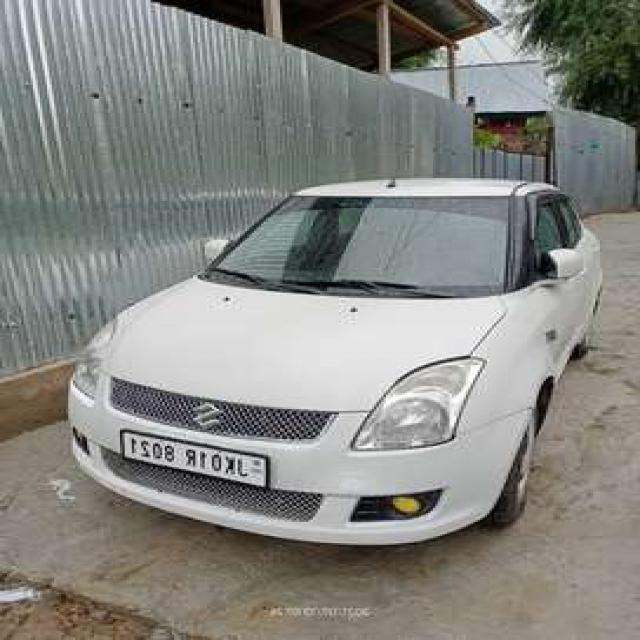license_plate: (114, 422, 274, 492)
